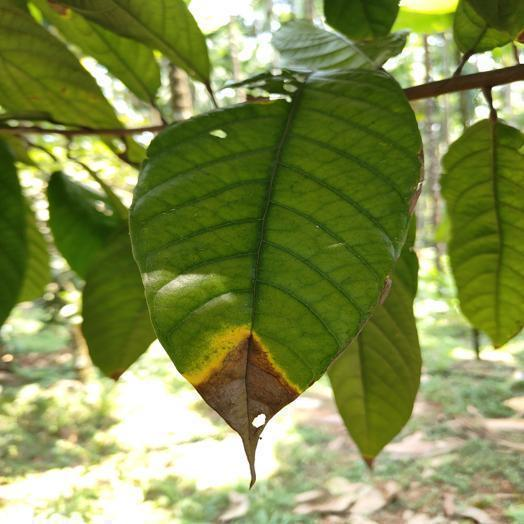Potassium: (131, 69, 421, 480)
